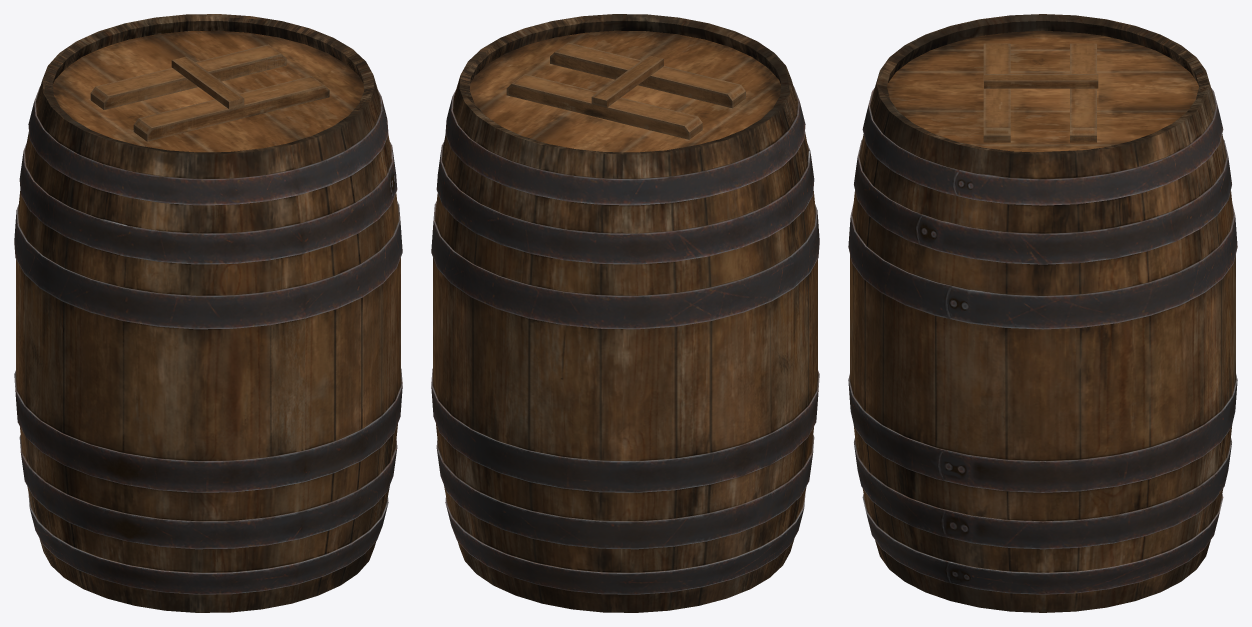
Rendered from омулевская бочка.glb.
3 views of the same model, side by side, from view 1: azimuth 30°, elevation 25°; view 2: azimuth 150°, elevation 25°; view 3: azimuth 270°, elevation 25° (orthographic).
Parts seen in each view (by area): view 1: lp005_barrel_0, Object_barrel_0; view 2: lp005_barrel_0, Object_barrel_0; view 3: lp005_barrel_0, Object_barrel_0.
Boxes of the visible parts, box(x1,y1,x2,y2) form: lp005_barrel_0: box(14, 14, 402, 612); Object_barrel_0: box(90, 44, 329, 141); lp005_barrel_0: box(431, 14, 819, 612); Object_barrel_0: box(506, 42, 745, 139); lp005_barrel_0: box(848, 14, 1237, 612); Object_barrel_0: box(983, 43, 1098, 142).
Bounding box in the file's own units: 14.3 × 18.82 × 14.3.
1 material, 1 textured.
